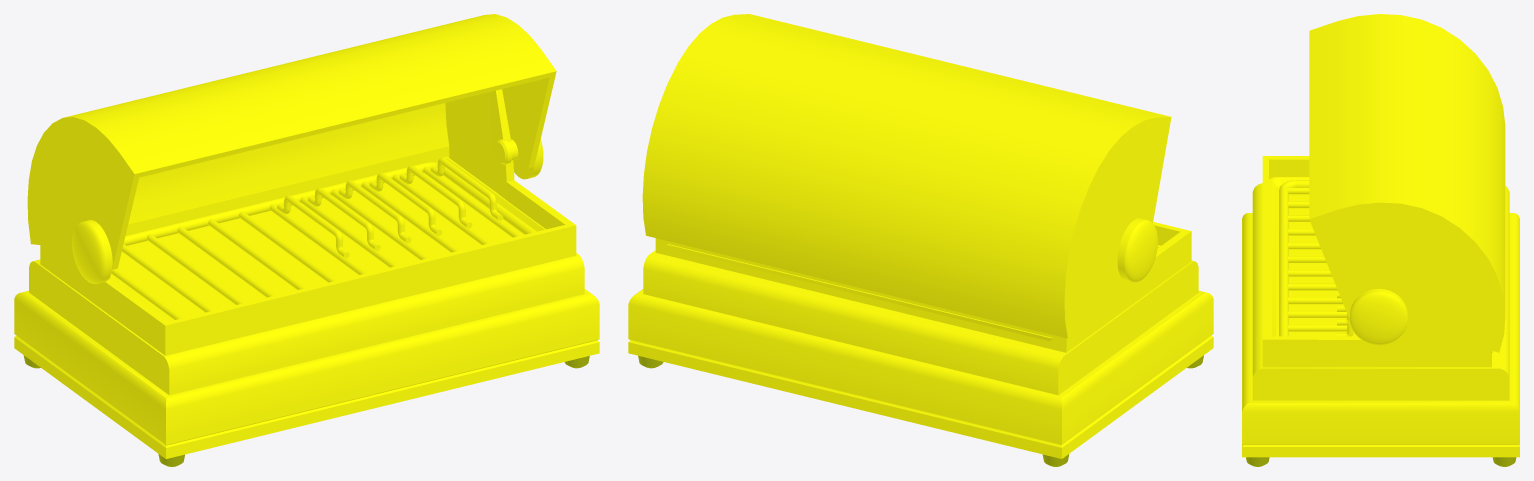
Rendered from SM_Dishwasher01.glb.
3 views of the same model, side by side, from view 1: azimuth 30°, elevation 25°; view 2: azimuth 150°, elevation 25°; view 3: azimuth 270°, elevation 25° (orthographic). The views are drawn at different scales.
Visible parts, largest first — view 1: SM_Dishwasher01; view 2: SM_Dishwasher01; view 3: SM_Dishwasher01.
Boxes of the visible parts, x1=… form: SM_Dishwasher01: x1=14, y1=14, x2=599, y2=466; SM_Dishwasher01: x1=628, y1=14, x2=1213, y2=466; SM_Dishwasher01: x1=1242, y1=14, x2=1519, y2=466.
Bounding box in the file's own units: 1.06 × 0.6486 × 0.6155.
1 material, 1 textured.
